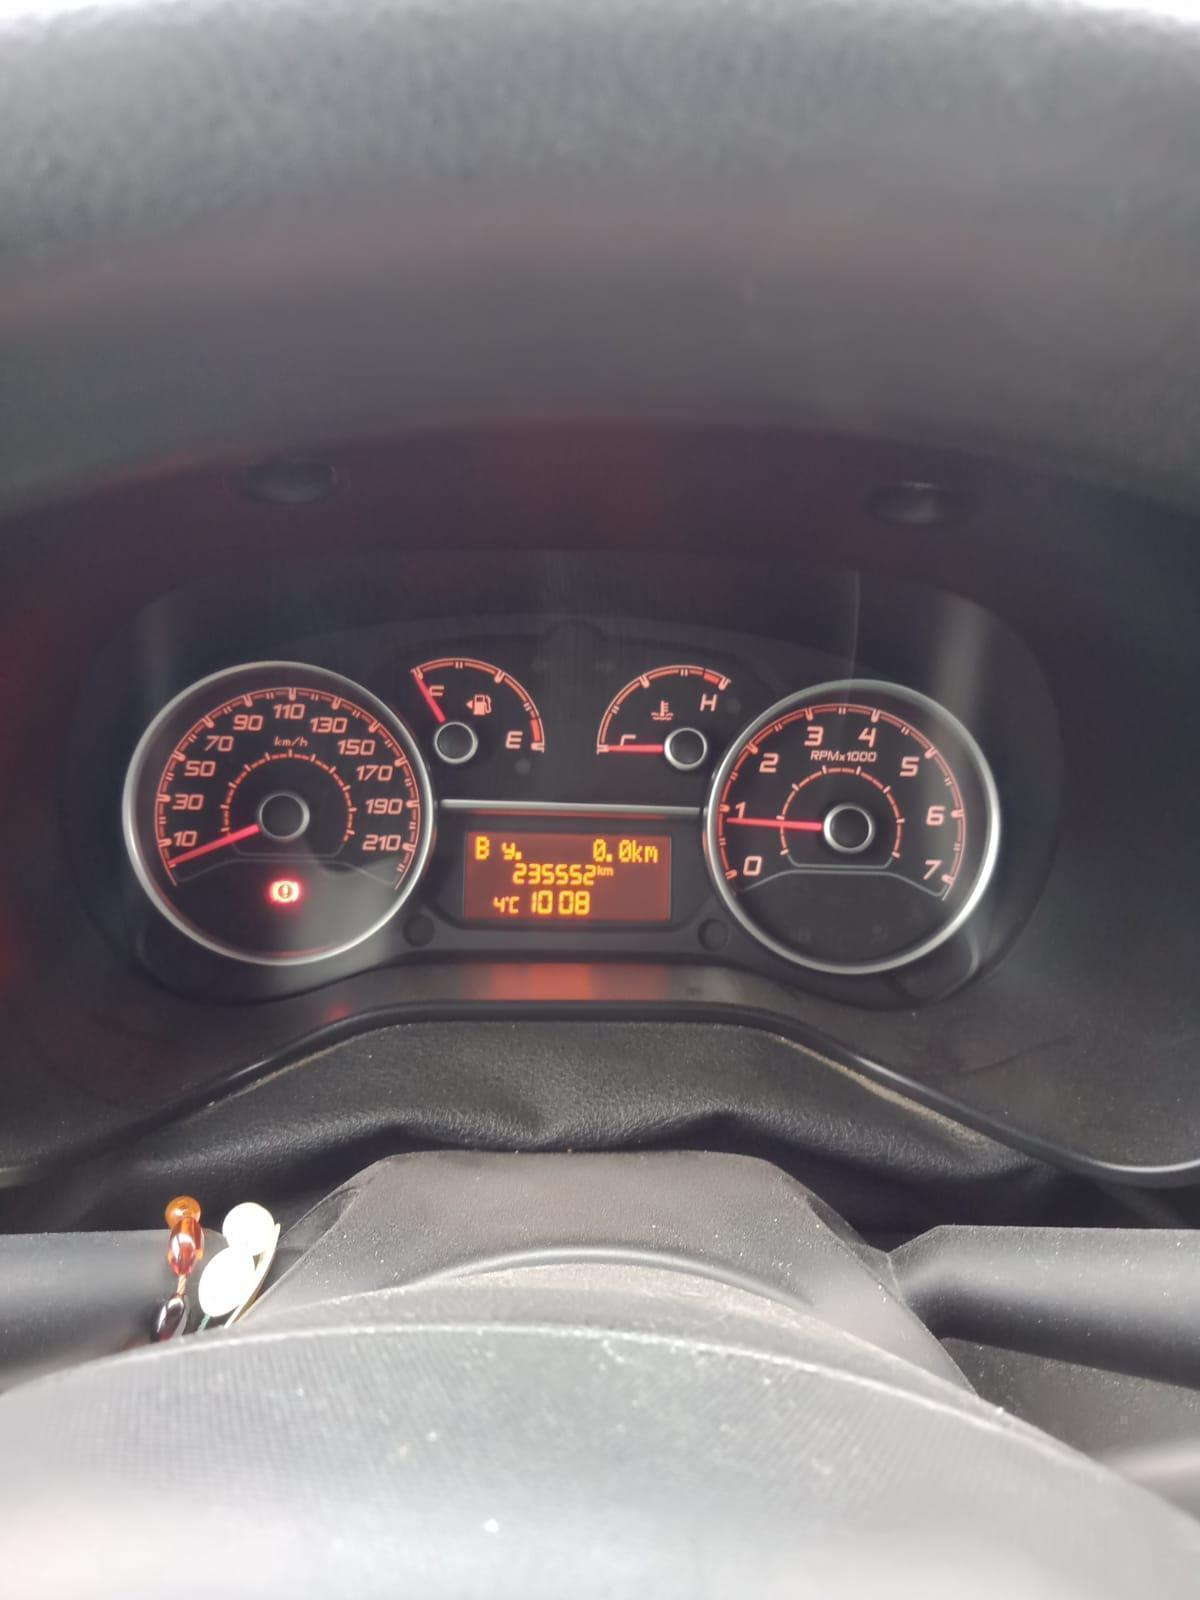,: (605, 852, 613, 862), (516, 850, 522, 860)
0: (537, 889, 553, 915), (558, 889, 574, 915), (616, 839, 632, 863), (591, 837, 605, 862)
1: (529, 889, 537, 912)
2: (512, 862, 527, 884), (584, 864, 596, 884)
3: (528, 863, 539, 884)
4: (492, 896, 505, 912)
5: (539, 863, 555, 884), (568, 863, 582, 884), (555, 863, 568, 884)
8: (574, 889, 591, 915)
X: (474, 835, 490, 860), (500, 842, 516, 860), (632, 839, 643, 863), (644, 845, 658, 864), (508, 894, 519, 913), (603, 866, 613, 876), (596, 864, 603, 876)
odometer: (460, 829, 672, 923)
